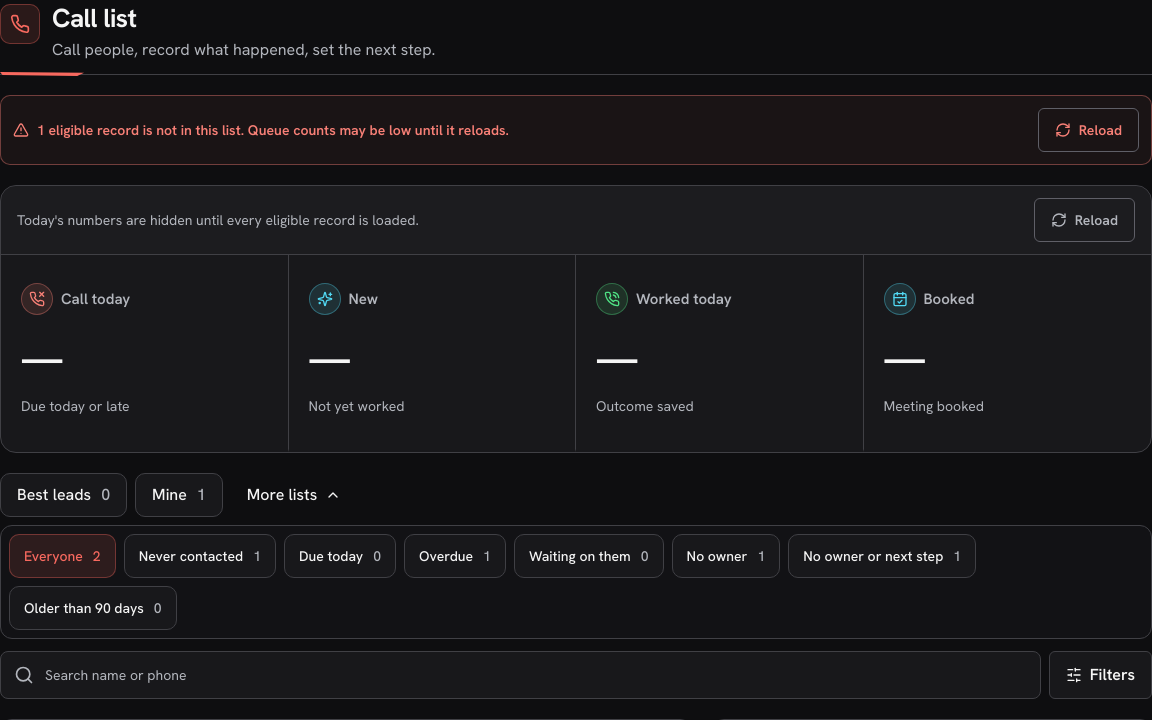
RecruitingWorklist failed loads (review) › a failed reload keeps the queue on screen behind a stale notice, and a retry clears it
Click the 1st button "Reload".
click(1088, 130)  # box [1038, 108, 1139, 152]
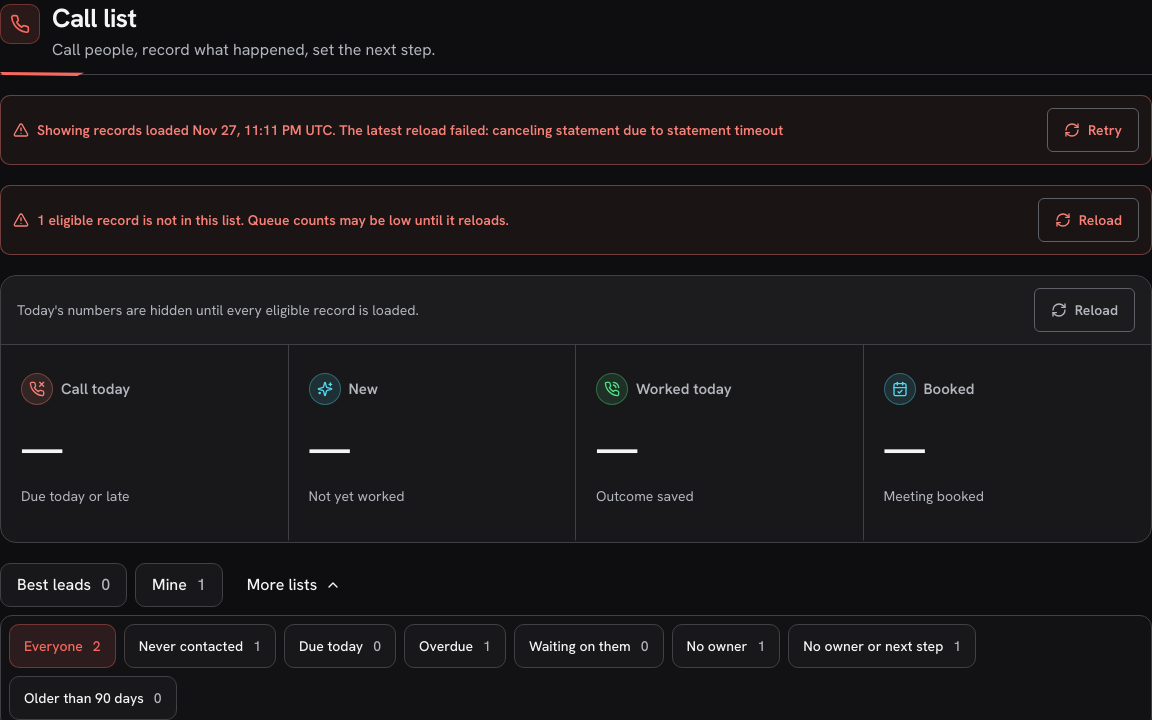
Check: the text "The latest reload failed" shows "Showing records loaded", box [37, 121, 192, 139]
Click the button "Retry".
click(1093, 130)  # box [1047, 108, 1139, 152]
(page scrolled)
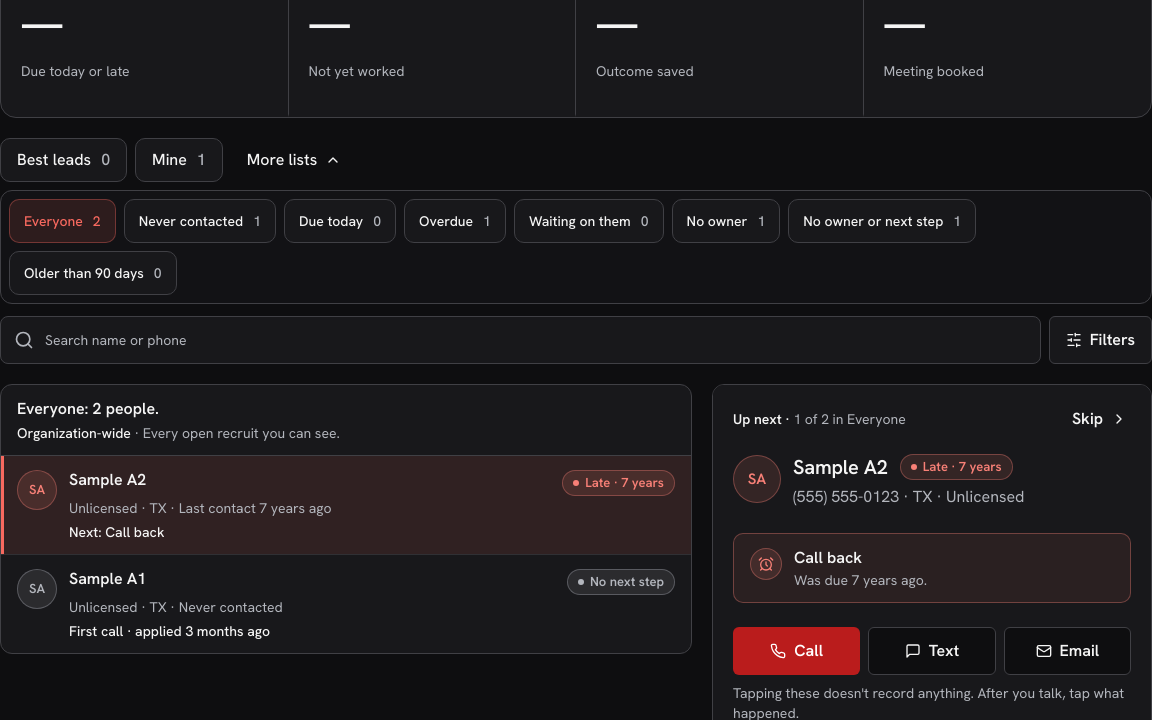
Check: the list named "Queue" is shown, box [1, 456, 691, 653]
Check: the text "The latest reload failed" is gone
